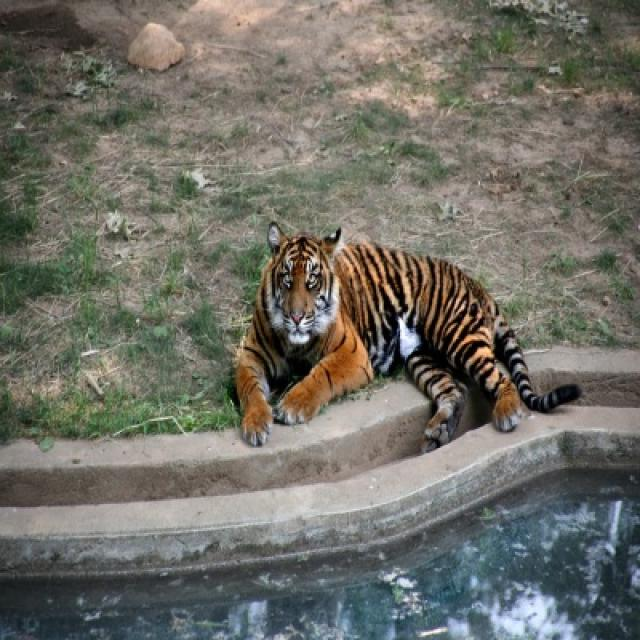Tiger: (235, 222, 578, 451)
